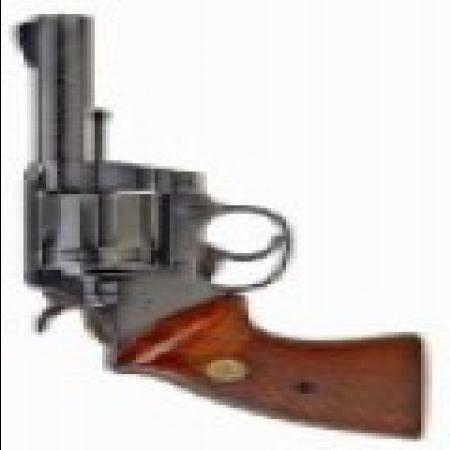Pistol: (7, 8, 416, 438)
